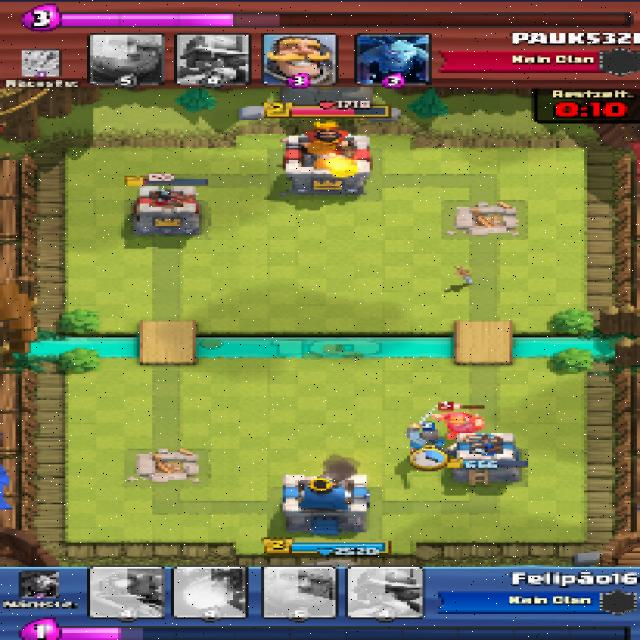Enemy-Knight: (432, 412, 482, 436)
Player-Knight: (407, 427, 456, 460)
